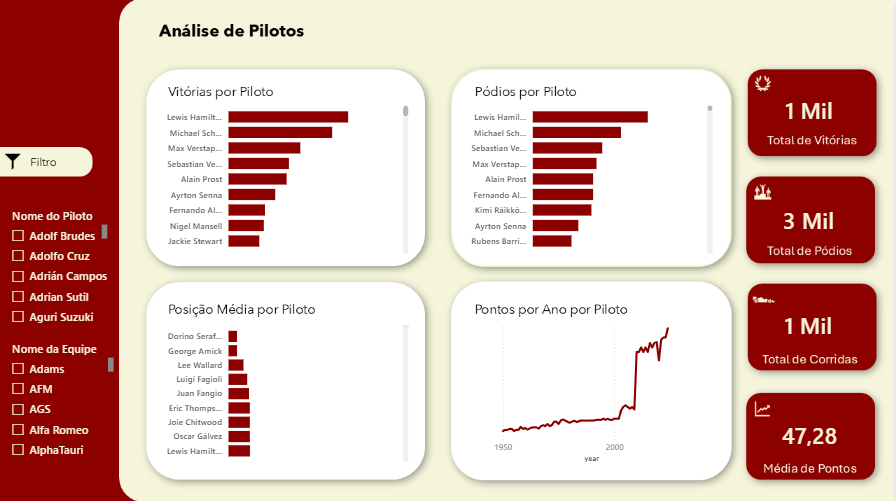

Layout of this report page (visuals, bound fields, positions):
{"tool":"powerbi","page":{"name":"Análise de Pilotos","canvas":[1280,720],"ordinal":1},"visuals":[{"type":"cardVisual","fields":{"Data":["FactResults.Total Vitórias"]},"box":[1078.6,116,160.6,79],"z":0},{"type":"cardVisual","fields":{"Data":["FactResults.Total Pódios"]},"box":[1091.3,267.7,133.9,91.8],"z":1000},{"type":"cardVisual","fields":{"Data":["FactResults.Média Pontos por Corrida"]},"box":[1083.7,576.3,150.4,89.2],"z":2000},{"type":"barChart","fields":{"Category":["DimDriver.Nome Piloto"],"Y":["FactResults.Total Vitórias"]},"box":[224.4,137.7,367.2,230.8],"z":3000},{"type":"barChart","fields":{"Category":["DimDriver.Nome Piloto"],"Y":["FactResults.Total Pódios"]},"box":[660.4,137.7,365.9,230.8],"z":4000},{"type":"barChart","fields":{"Category":["DimDriver.Nome Piloto"],"Y":["FactResults.Média Posição"]},"box":[224.4,451.3,367.2,214.2],"z":5000},{"type":"lineChart","fields":{"Category":["DimRace.year"],"Y":["FactResults.Total Pontos"]},"box":[671.9,451.3,354.4,214.2],"z":6000},{"type":"slicer","fields":{"Values":["DimDriver.Nome Piloto"]},"box":[7.6,293.2,154.3,179.8],"z":8000},{"type":"slicer","fields":{"Values":["DimConstructor.name"]},"box":[7.6,483.2,163.2,182.3],"z":9000},{"type":"cardVisual","fields":{"Data":["FactResults.Total Corridas"]},"box":[1087.5,410.5,141.5,105.8],"z":10000}]}

Visuals, with their boxes on the page's 1280x720 design canvas (x1, y1, x2, y2). These are canvas units, not pixel positions in the 896x501 screenshot, which may show the page scaled, cropped or inside an application window:
cardVisual - FactResults.Total Vitórias: <region>1079, 116, 1239, 195</region>
cardVisual - FactResults.Total Pódios: <region>1091, 268, 1225, 360</region>
cardVisual - FactResults.Média Pontos por Corrida: <region>1084, 576, 1234, 666</region>
barChart - DimDriver.Nome Piloto x FactResults.Total Vitórias: <region>224, 138, 592, 368</region>
barChart - DimDriver.Nome Piloto x FactResults.Total Pódios: <region>660, 138, 1026, 368</region>
barChart - DimDriver.Nome Piloto x FactResults.Média Posição: <region>224, 451, 592, 666</region>
lineChart - DimRace.year x FactResults.Total Pontos: <region>672, 451, 1026, 666</region>
slicer - DimDriver.Nome Piloto: <region>8, 293, 162, 473</region>
slicer - DimConstructor.name: <region>8, 483, 171, 666</region>
cardVisual - FactResults.Total Corridas: <region>1088, 410, 1229, 516</region>
